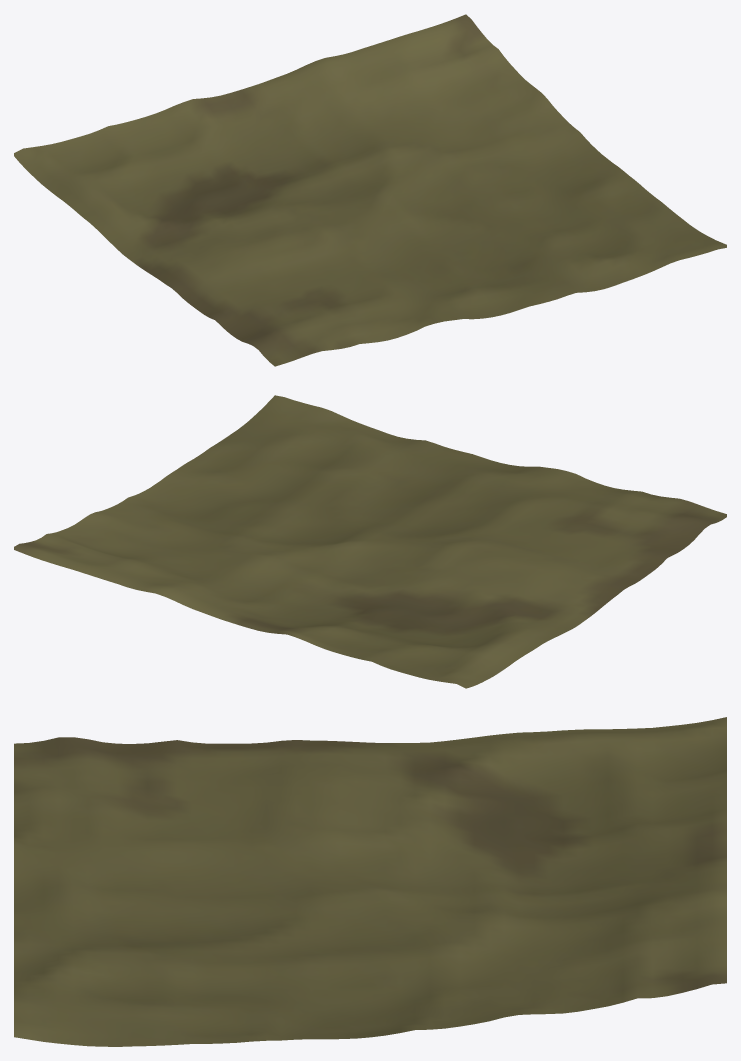
Rendered from land_m_04_08.glb.
3 renders of one model, top to bottom at view 1: azimuth 30°, elevation 25°; view 2: azimuth 150°, elevation 25°; view 3: azimuth 270°, elevation 25°, orthographic. The views are drawn at different scales.
Parts seen in each view (by area): view 1: land_m_04_08; view 2: land_m_04_08; view 3: land_m_04_08.
Boxes of the visible parts, bbox=[...] form: land_m_04_08: bbox=[14, 14, 726, 366]; land_m_04_08: bbox=[14, 395, 726, 688]; land_m_04_08: bbox=[14, 717, 726, 1046].
Size of the model in its own units: 960 by 112 by 960.
